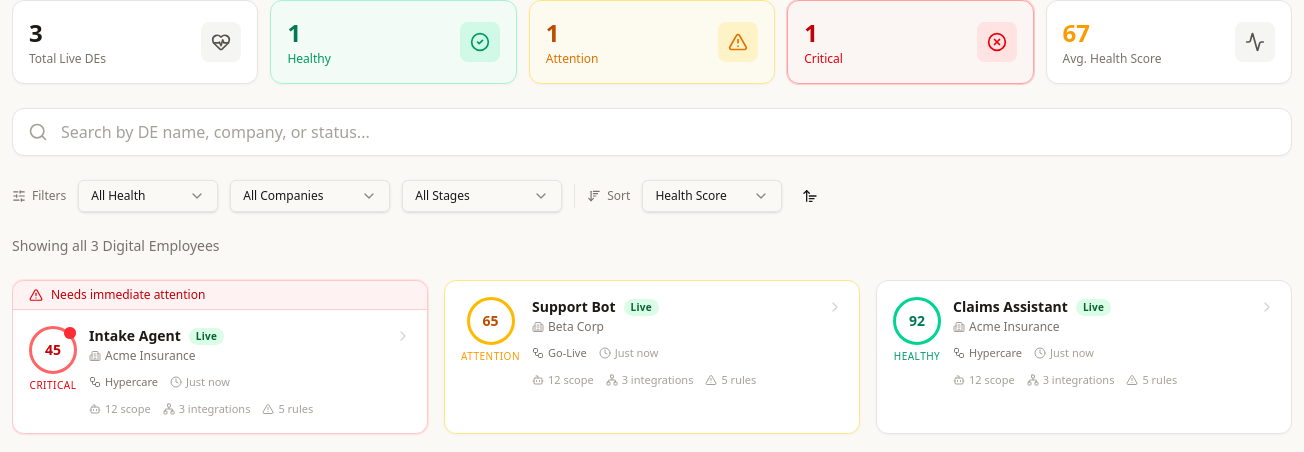
SupportDashboardClient › toggles sort direction label on click
The image size is (1304, 452).
Click the button named "Sort ascending". click: [810, 196]
box: x1=794 y1=180 x2=826 y2=212
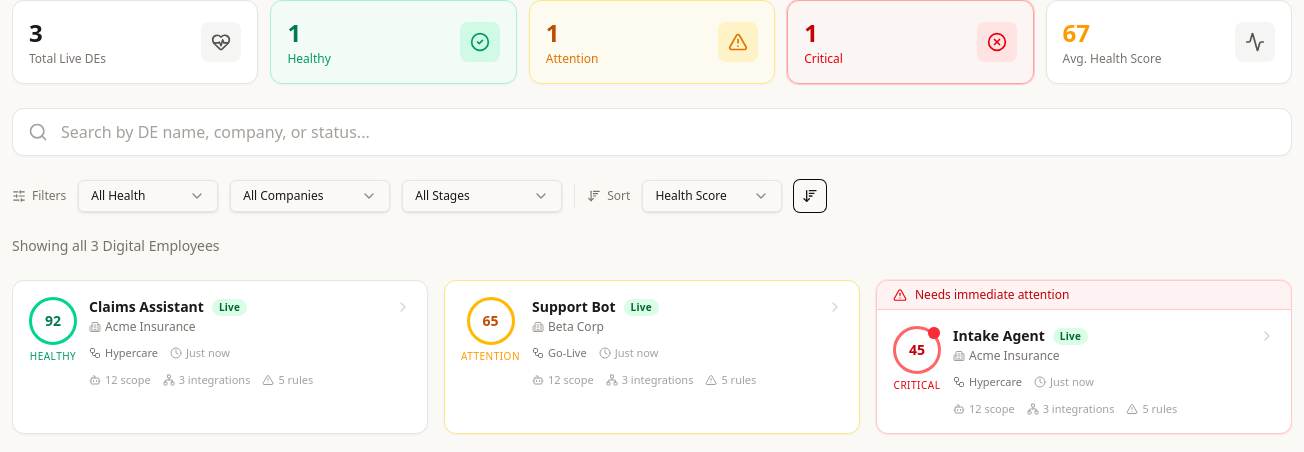
Expected: the button named "Sort descending" is shown, x1=794 y1=180 x2=826 y2=212
